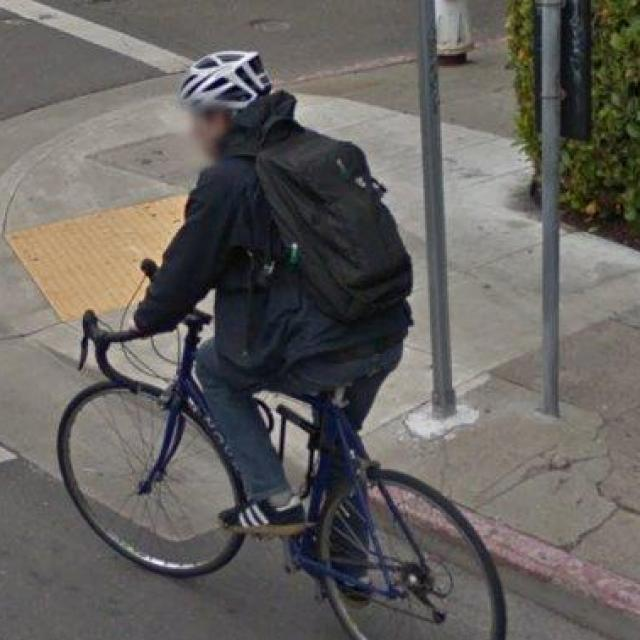bicycle: (22, 245, 576, 640)
